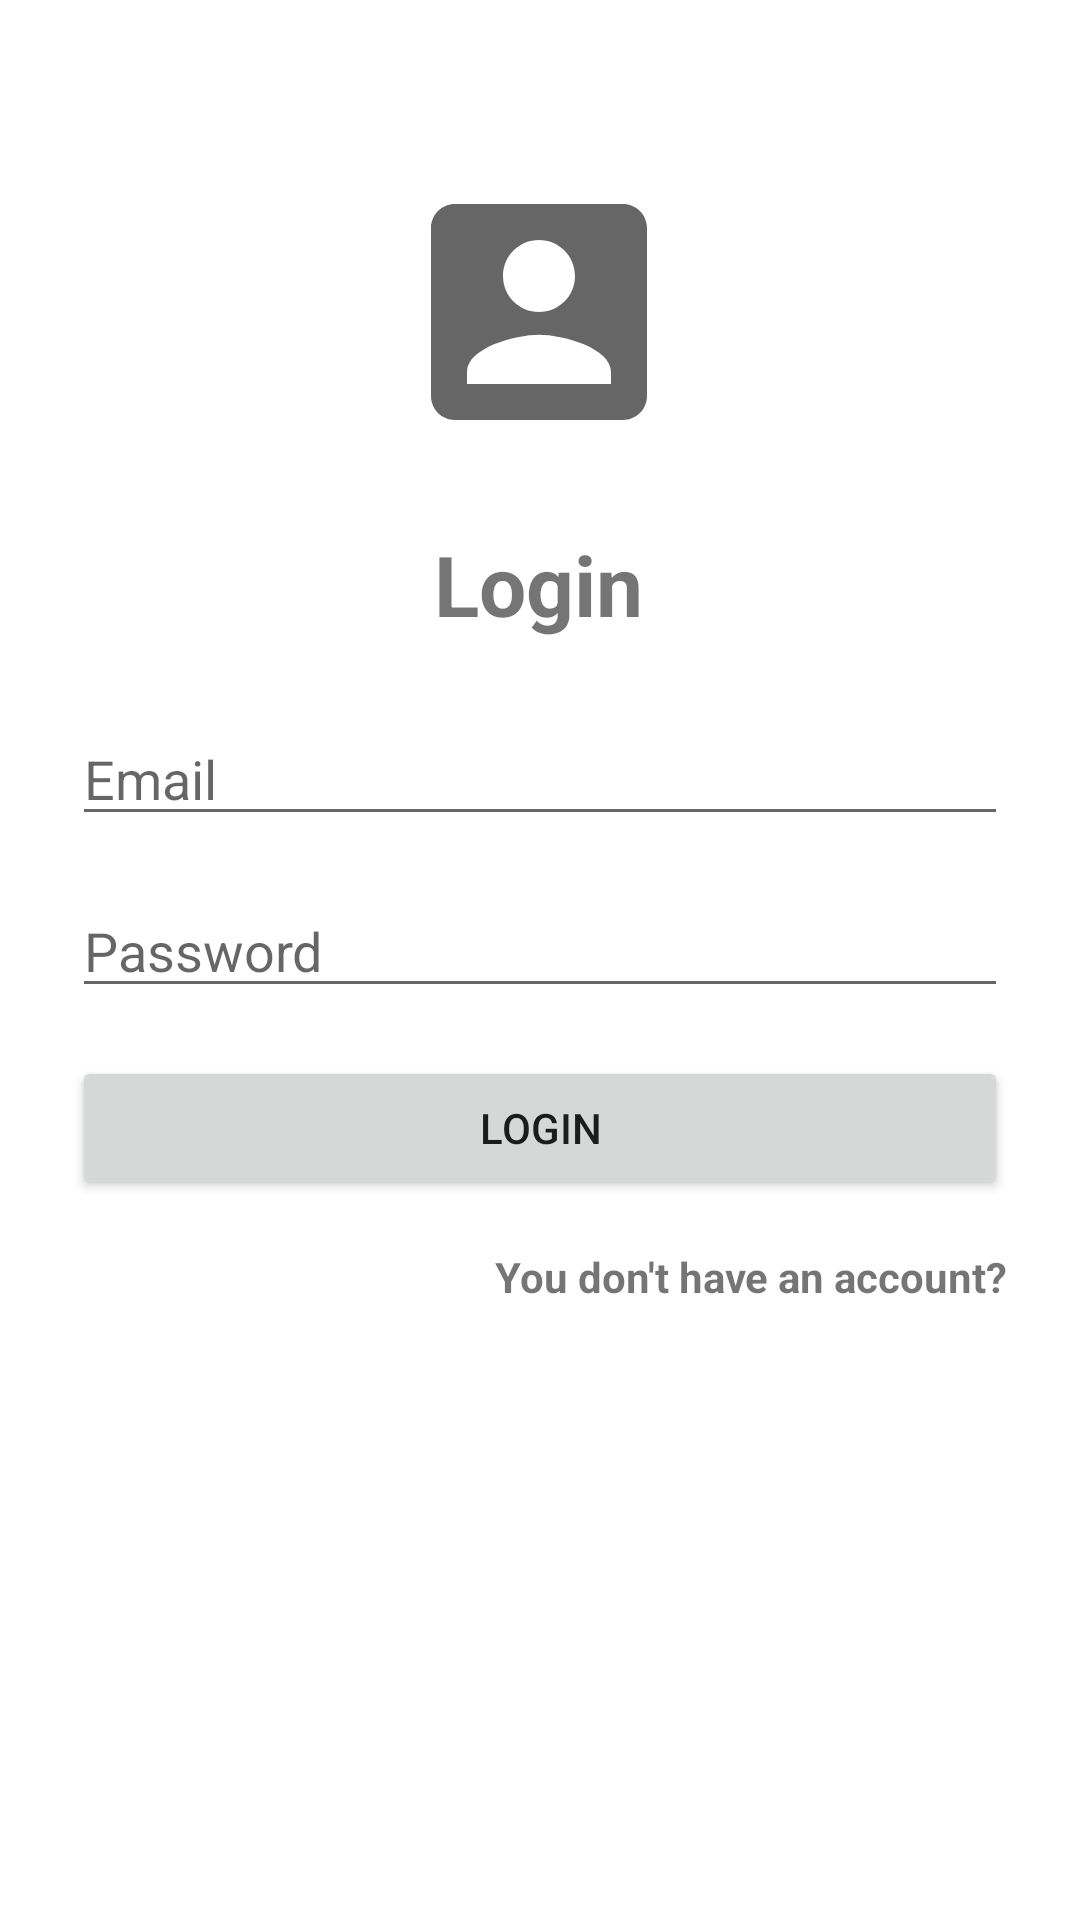

Icons on this 1080x1920 Android screen, each with the point to tap as [x,y]:
profile: [539,312]
